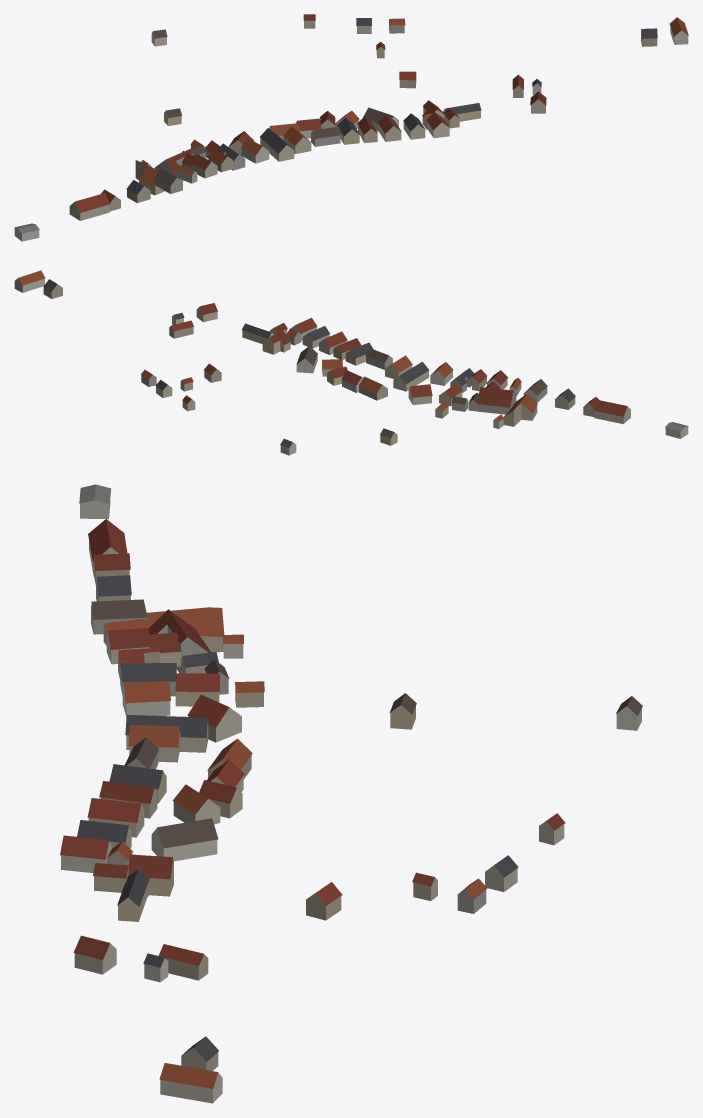
3 views of the same model, one above another, from view 1: azimuth 30°, elevation 25°; view 2: azimuth 150°, elevation 25°; view 3: azimuth 270°, elevation 25° (orthographic). The views are drawn at different scales.
Visible parts, largest first — view 1: buildings; view 2: buildings; view 3: buildings.
Part boxes in pixels (x1,y1,x2,y2): buildings: (14, 14, 688, 241); buildings: (14, 270, 688, 455); buildings: (60, 484, 642, 1103).
Size of the model in its own units: 521 by 25.42 by 205.
